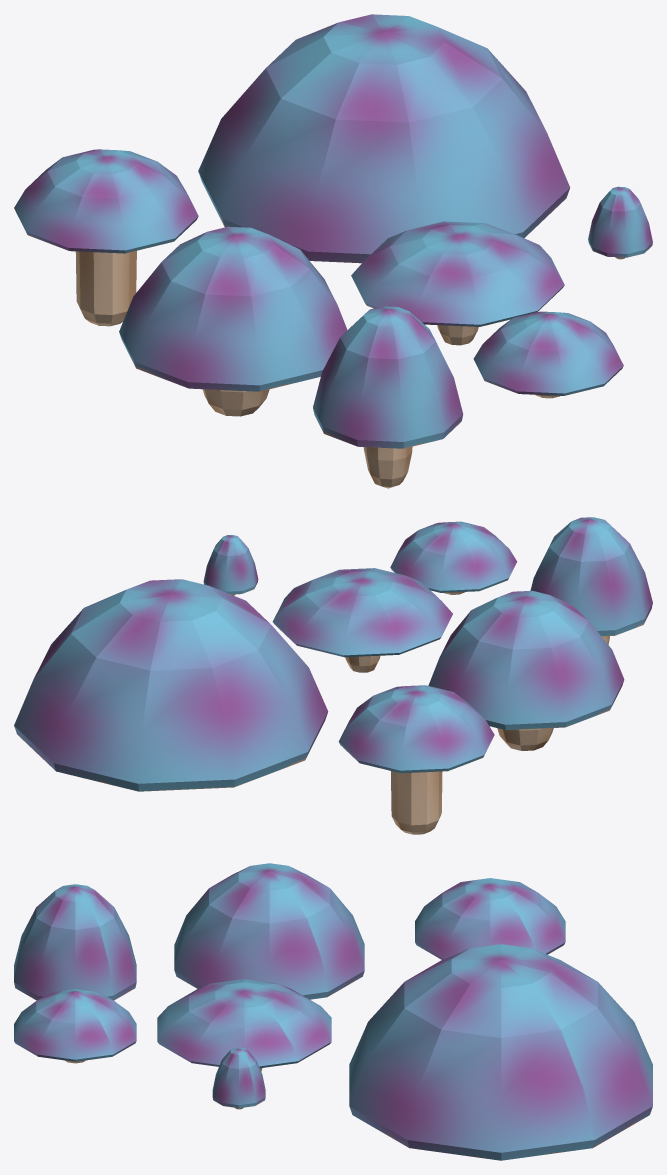
Rendered from MBL_Glowing_Mushroom.fbx.
The picture shows the model from 3 angles, top to bottom: view 1: azimuth 30°, elevation 25°; view 2: azimuth 150°, elevation 25°; view 3: azimuth 270°, elevation 25°; orthographic projection. The views are drawn at different scales.
Parts seen in each view (by area): view 1: MBL_GlowingMusroom6, MBL_GlowingMusroom4, MBL_GlowingMusroom5, MBL_GlowingMusroom3, MBL_GlowingMusroom1, MBL_GlowingMusroom2, MBL_GlowingMusroom7; view 2: MBL_GlowingMusroom6, MBL_GlowingMusroom4, MBL_GlowingMusroom5, MBL_GlowingMusroom1, MBL_GlowingMusroom3, MBL_GlowingMusroom2, MBL_GlowingMusroom7; view 3: MBL_GlowingMusroom6, MBL_GlowingMusroom4, MBL_GlowingMusroom1, MBL_GlowingMusroom3, MBL_GlowingMusroom5, MBL_GlowingMusroom2, MBL_GlowingMusroom7.
Boxes of the visible parts, bbox=[...] form: MBL_GlowingMusroom6: bbox=[198, 14, 570, 263]; MBL_GlowingMusroom4: bbox=[119, 226, 347, 416]; MBL_GlowingMusroom5: bbox=[14, 149, 198, 326]; MBL_GlowingMusroom3: bbox=[313, 306, 463, 488]; MBL_GlowingMusroom1: bbox=[351, 221, 564, 345]; MBL_GlowingMusroom2: bbox=[473, 311, 623, 398]; MBL_GlowingMusroom7: bbox=[588, 186, 652, 259]; MBL_GlowingMusroom6: bbox=[14, 579, 328, 791]; MBL_GlowingMusroom4: bbox=[428, 590, 624, 750]; MBL_GlowingMusroom5: bbox=[338, 685, 494, 834]; MBL_GlowingMusroom1: bbox=[272, 568, 452, 672]; MBL_GlowingMusroom3: bbox=[530, 517, 652, 644]; MBL_GlowingMusroom2: bbox=[390, 521, 517, 594]; MBL_GlowingMusroom7: bbox=[203, 535, 258, 595]; MBL_GlowingMusroom6: bbox=[349, 944, 652, 1160]; MBL_GlowingMusroom4: bbox=[174, 863, 364, 999]; MBL_GlowingMusroom1: bbox=[157, 979, 331, 1071]; MBL_GlowingMusroom3: bbox=[14, 884, 136, 1000]; MBL_GlowingMusroom5: bbox=[415, 878, 565, 959]; MBL_GlowingMusroom2: bbox=[14, 989, 136, 1063]; MBL_GlowingMusroom7: bbox=[212, 1047, 265, 1109].
Size of the model in its own units: 23.64 by 8.91 by 27.99.
Materials: 1 (1 with a texture image).
